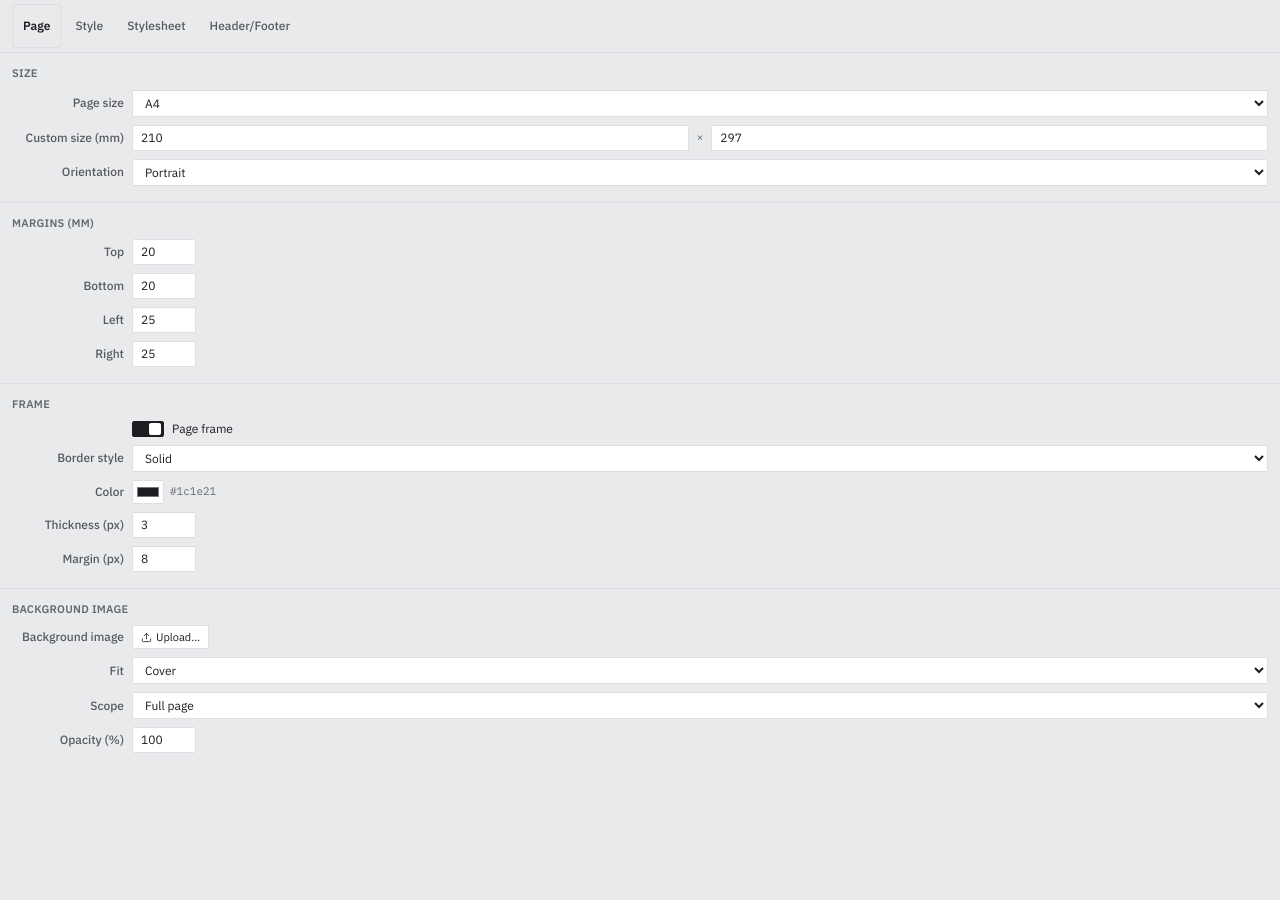
Test: the AI block of the Stylesheet tab — its own states › renders nothing on an instance with no provider configured
The width and height of the screenshot is (1280, 900).
Click the tab with aria-label "Custom stylesheet": (156, 26) [117, 4, 196, 48]
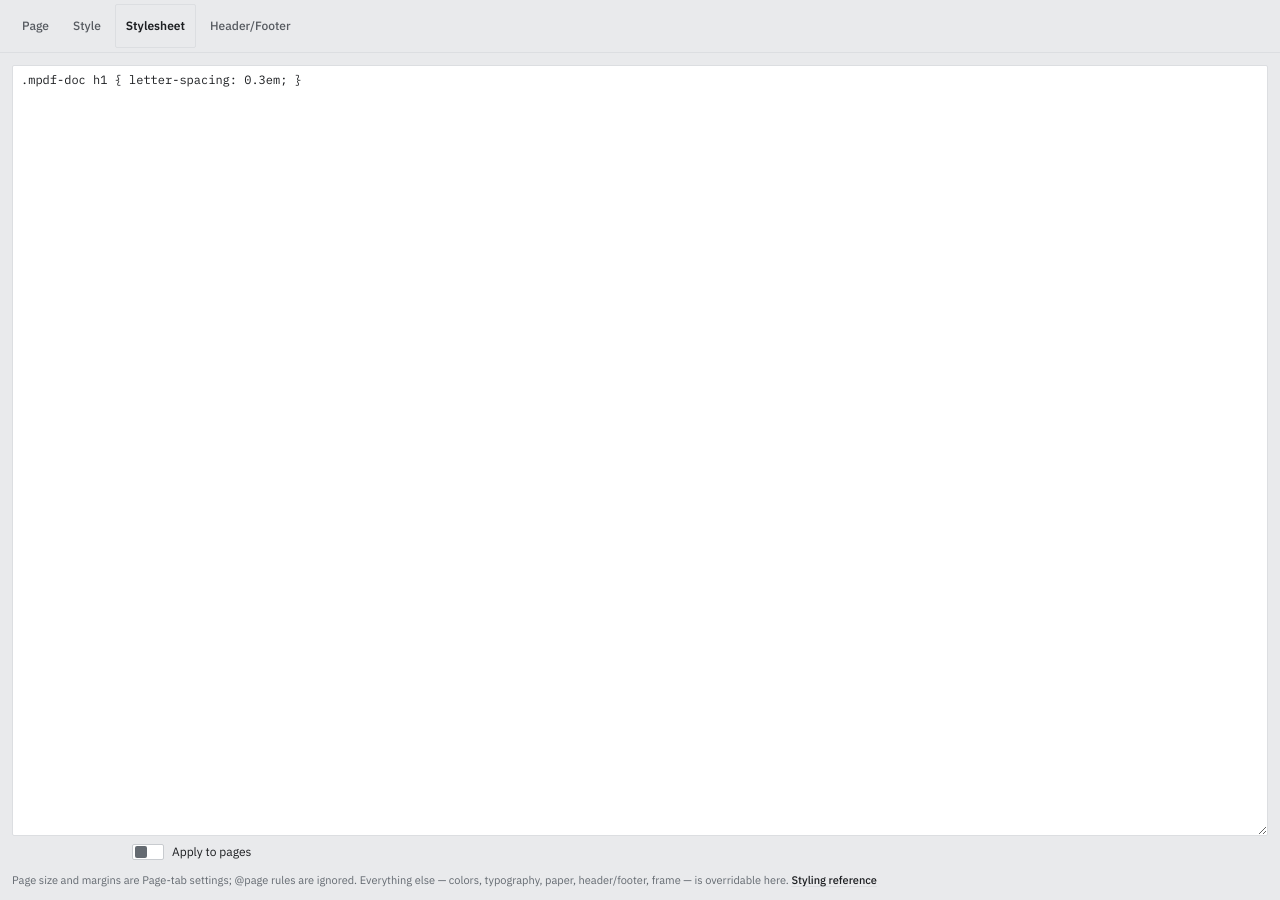
Expected: the text box with test id "stylesheet-box" is shown
